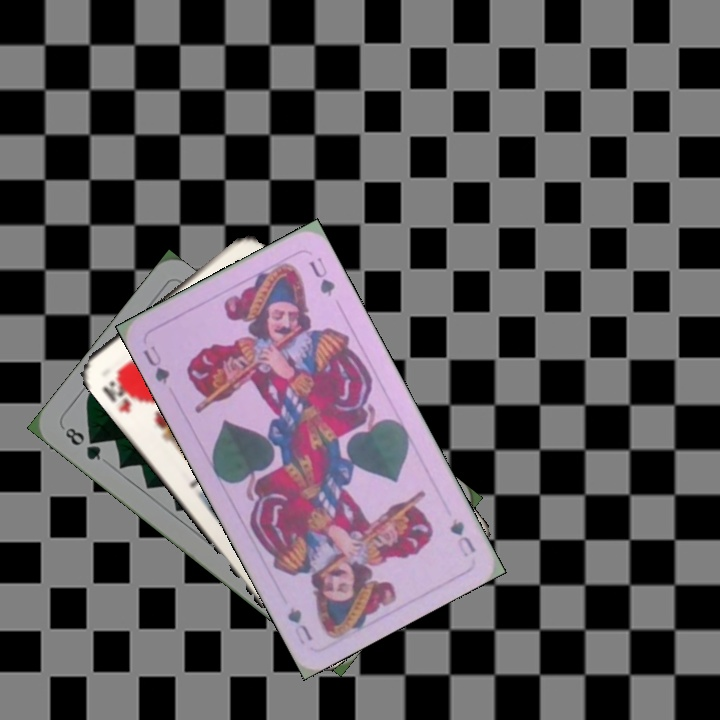G8: (60, 423, 104, 463)
GU: (139, 341, 173, 387), (445, 514, 479, 560)
HK: (98, 367, 144, 416)
